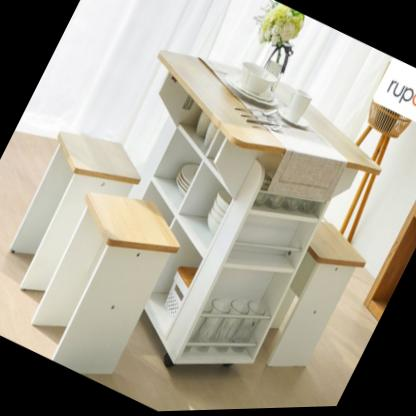Dining Table: (0, 0, 416, 416)
Wooden floor: (89, 275, 377, 412), (0, 131, 59, 360)
